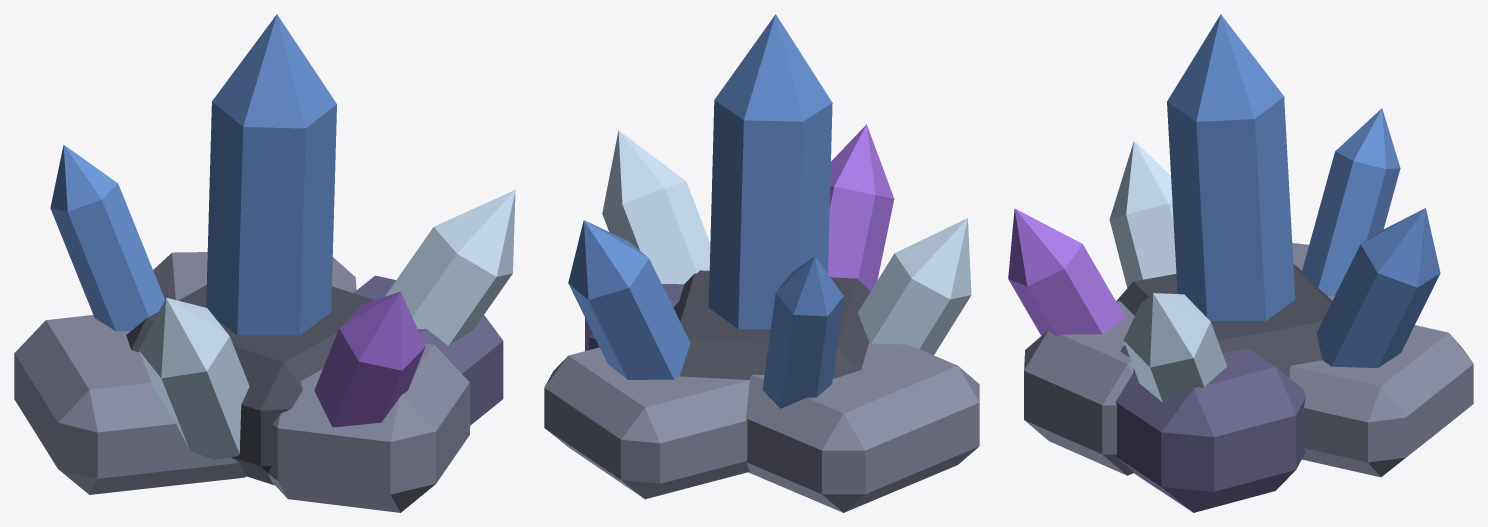
File: crystals.glb
3 views of the same model, side by side, from view 1: azimuth 30°, elevation 25°; view 2: azimuth 150°, elevation 25°; view 3: azimuth 270°, elevation 25° (orthographic). The views are drawn at different scales.
Parts seen in each view (by area): view 1: glow-crystals, crystals; view 2: glow-crystals, crystals; view 3: glow-crystals, crystals.
Boxes of the visible parts, x1=… form: glow-crystals: x1=50, y1=14, x2=515, y2=459; crystals: x1=14, y1=252, x2=503, y2=512; glow-crystals: x1=568, y1=14, x2=971, y2=408; crystals: x1=544, y1=270, x2=979, y2=512; glow-crystals: x1=1008, y1=14, x2=1440, y2=402; crystals: x1=1024, y1=243, x2=1473, y2=512.
Bounding box in the file's own units: 0.7021 × 0.7083 × 0.714.
Materials: 1 (1 with a texture image).
